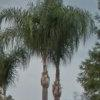Palm tree: (21, 2, 84, 100)
